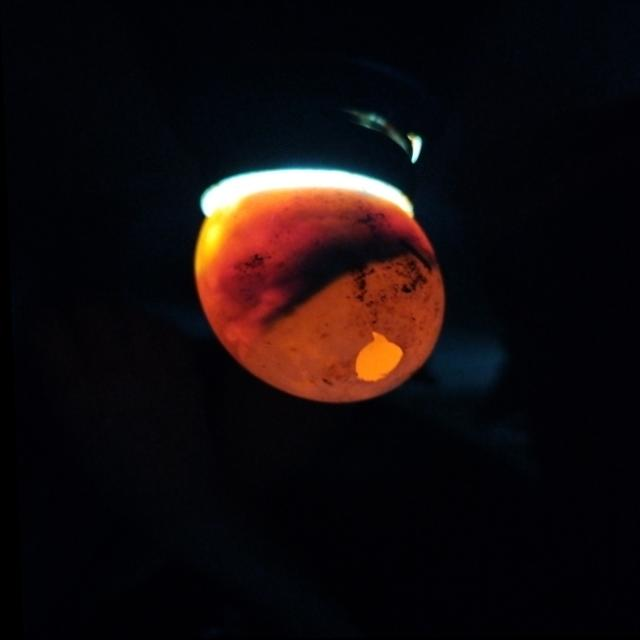Area Infectada: (259, 232, 435, 326)
